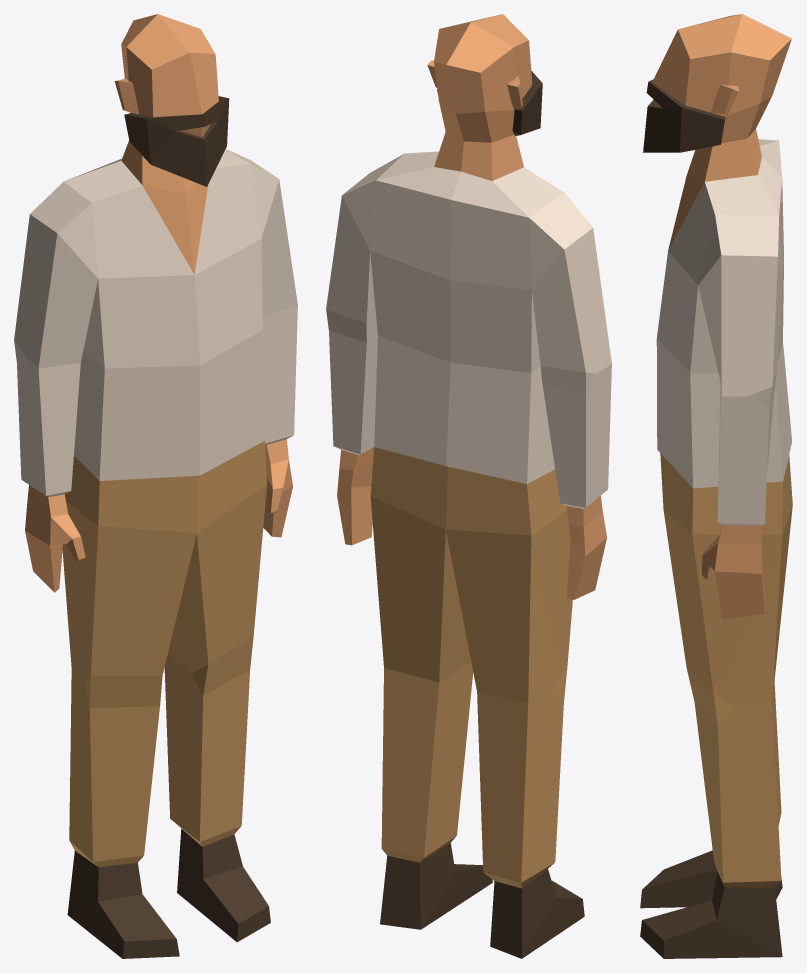
File: people_man-worker.fbx
3 renders of one model, left to right at view 1: azimuth 30°, elevation 25°; view 2: azimuth 150°, elevation 25°; view 3: azimuth 270°, elevation 25°, orthographic.
Parts seen in each view (by area): view 1: people_man_worker; view 2: people_man_worker; view 3: people_man_worker.
Boxes of the visible parts, x1,y1,x2,y2 form: people_man_worker: [14, 14, 297, 958]; people_man_worker: [326, 14, 611, 958]; people_man_worker: [640, 14, 792, 958].
Bounding box in the file's own units: 60.41 × 200 × 30.45.
